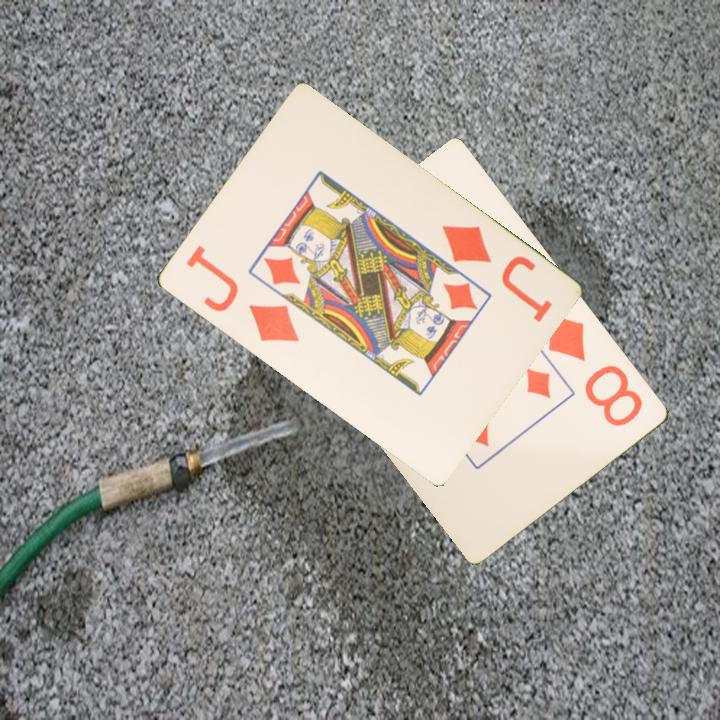8d: (543, 308, 647, 430)
Jd: (182, 241, 302, 346), (437, 221, 555, 326)
